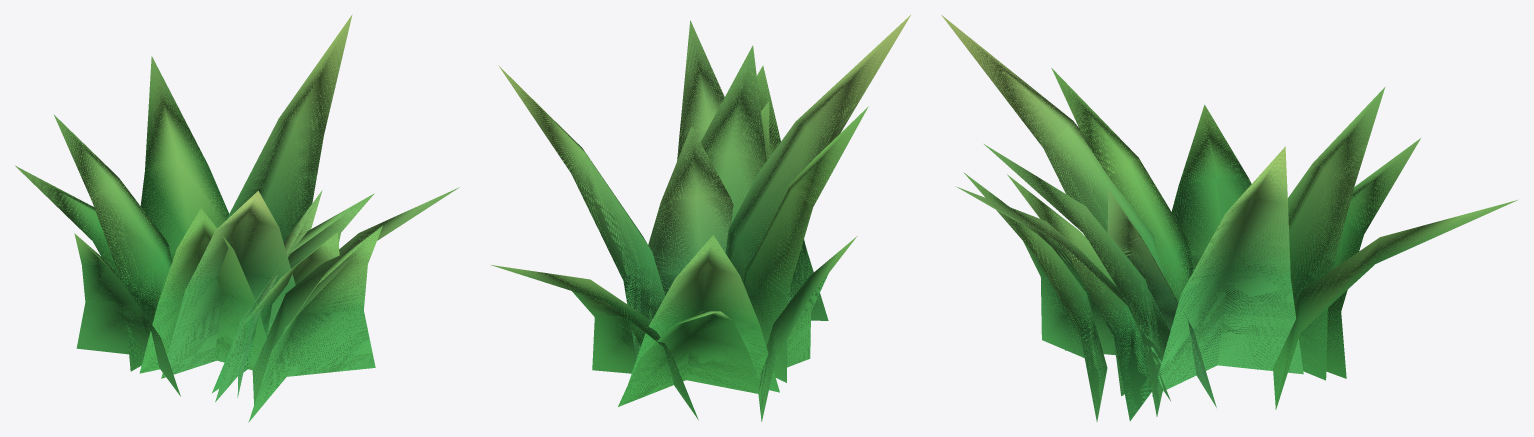
Rendered from verdant_ground_grass_tuft_a.glb.
The picture shows the model from 3 angles, left to right: view 1: azimuth 30°, elevation 25°; view 2: azimuth 150°, elevation 25°; view 3: azimuth 270°, elevation 25°; orthographic projection. The views are drawn at different scales.
Parts seen in each view (by area): view 1: verdant_ground_grass_tuft_a; view 2: verdant_ground_grass_tuft_a; view 3: verdant_ground_grass_tuft_a.
Boxes of the visible parts, x1=… form: verdant_ground_grass_tuft_a: x1=15, y1=14, x2=459, y2=422; verdant_ground_grass_tuft_a: x1=491, y1=15, x2=910, y2=421; verdant_ground_grass_tuft_a: x1=941, y1=15, x2=1518, y2=421.
Size of the model in its own units: 0.917 by 0.7781 by 1.31.
